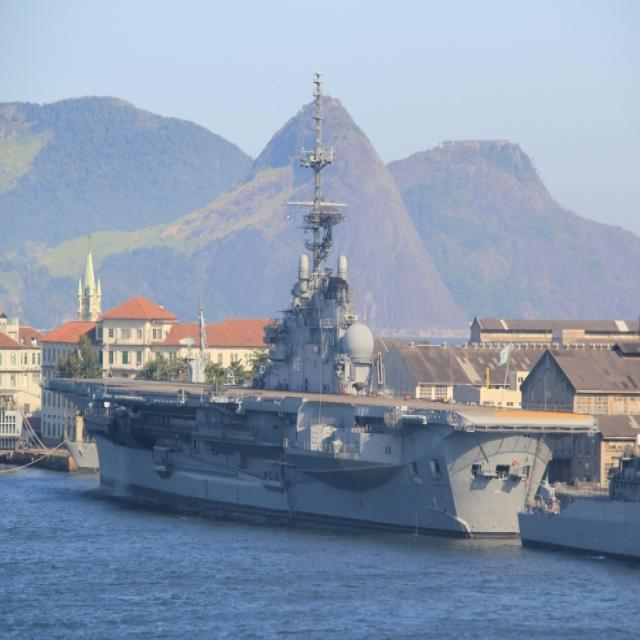Portanaves: (37, 57, 604, 559)
